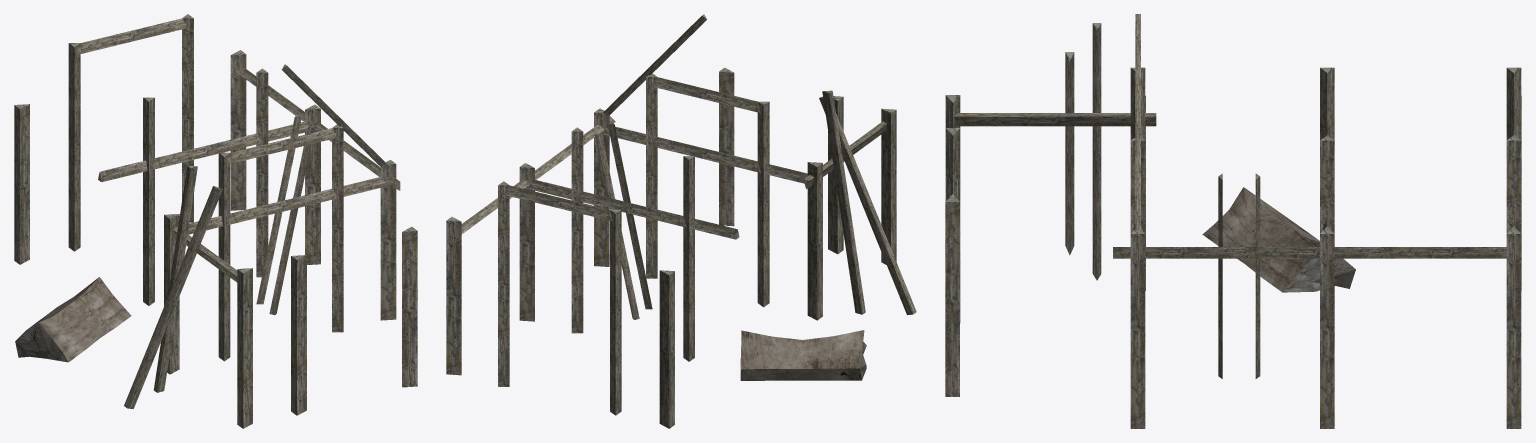
The model's file is ConstructionSite_LOD03.fbx.
3 renders of one model, left to right at view 1: azimuth 30°, elevation 25°; view 2: azimuth 150°, elevation 25°; view 3: azimuth 270°, elevation 25°, orthographic. The views are drawn at different scales.
Visible parts, largest first — view 1: Mesh Object; view 2: Mesh Object; view 3: Mesh Object.
Part boxes in pixels (x1,y1,x2,y2): Mesh Object: (14, 14, 417, 428); Mesh Object: (446, 14, 916, 428); Mesh Object: (945, 14, 1521, 428).
Bounding box in the file's own units: 6.21 × 5.17 × 7.68.
